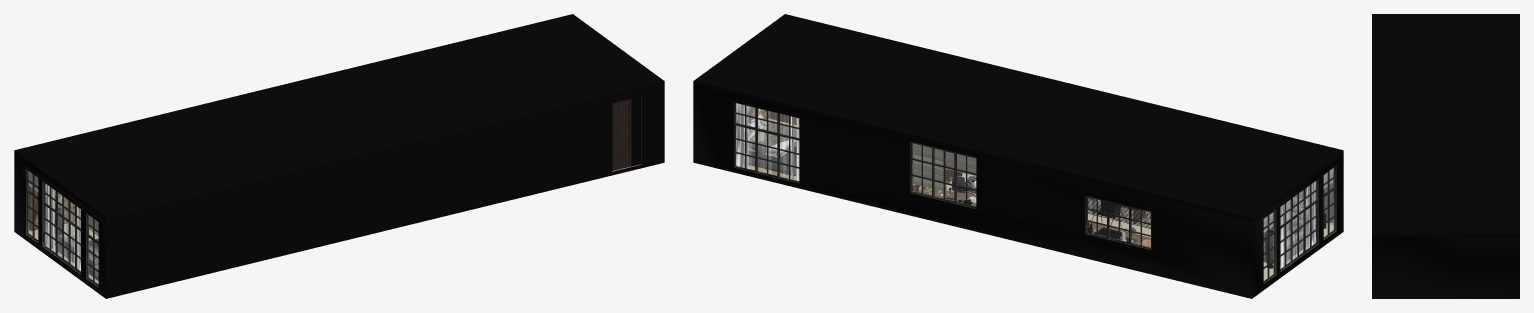
Rendered from modern_apartment.glb.
3 views of the same model, side by side, from view 1: azimuth 30°, elevation 25°; view 2: azimuth 150°, elevation 25°; view 3: azimuth 270°, elevation 25° (orthographic). The views are drawn at different scales.
Parts seen in each view (by area): view 1: Apple Adaptor_White1_0, BathroomFurnitures_Glass_0, EnteranceDoor_Wood0035_0, Plane.002_SprayedWallTexture_0, BathroomFurnitures_Wood049_0, CouchSet_Material_1_0; view 2: Apple Adaptor_White1_0, BathroomFurnitures_Glass_0, Zebra Curtains_tecido_0, BathroomFurnitures_Wood049_0, Plane.002_SprayedWallTexture_0, Plane.002_Marble 015_0, BedroomRug_Fabrics0070.001_0, CouchSet_Material_1_0, Bed_Plain_Grey_Texture_2669056_20cm.001_0; view 3: Apple Adaptor_White1_0.
Boxes of the visible parts, <box> form: Apple Adaptor_White1_0: <box>14,14,664,298</box>; BathroomFurnitures_Glass_0: <box>29,172,97,282</box>; EnteranceDoor_Wood0035_0: <box>612,99,631,170</box>; Plane.002_SprayedWallTexture_0: <box>26,96,641,286</box>; BathroomFurnitures_Wood049_0: <box>29,186,74,230</box>; CouchSet_Material_1_0: <box>58,234,98,277</box>; Apple Adaptor_White1_0: <box>693,14,1343,298</box>; BathroomFurnitures_Glass_0: <box>736,104,1333,279</box>; Zebra Curtains_tecido_0: <box>912,143,1333,232</box>; BathroomFurnitures_Wood049_0: <box>751,107,1150,247</box>; Plane.002_SprayedWallTexture_0: <box>734,142,1336,283</box>; Plane.002_Marble 015_0: <box>946,173,1333,280</box>; BedroomRug_Fabrics0070.001_0: <box>748,146,1273,264</box>; CouchSet_Material_1_0: <box>1263,197,1315,260</box>; Bed_Plain_Grey_Texture_2669056_20cm.001_0: <box>747,108,796,157</box>; Apple Adaptor_White1_0: <box>1372,14,1519,298</box>.
Size of the model in its own units: 20.84 by 2.9 by 5.93.
66 materials, 66 textured.
